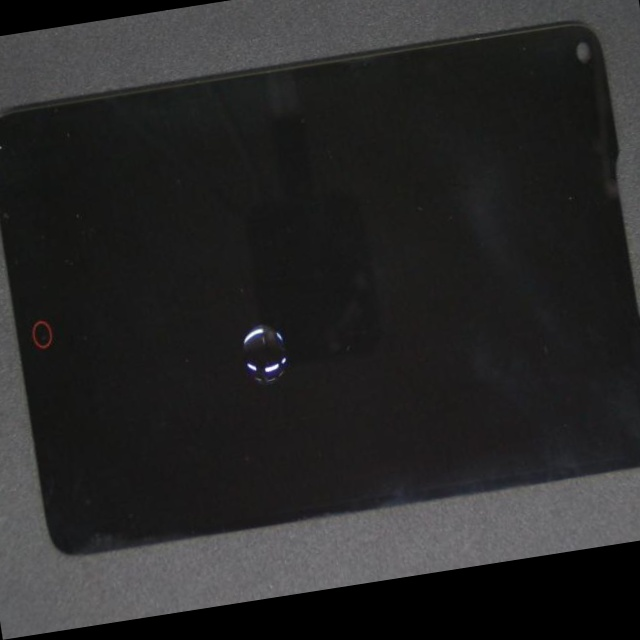oil: (105, 129, 415, 518)
